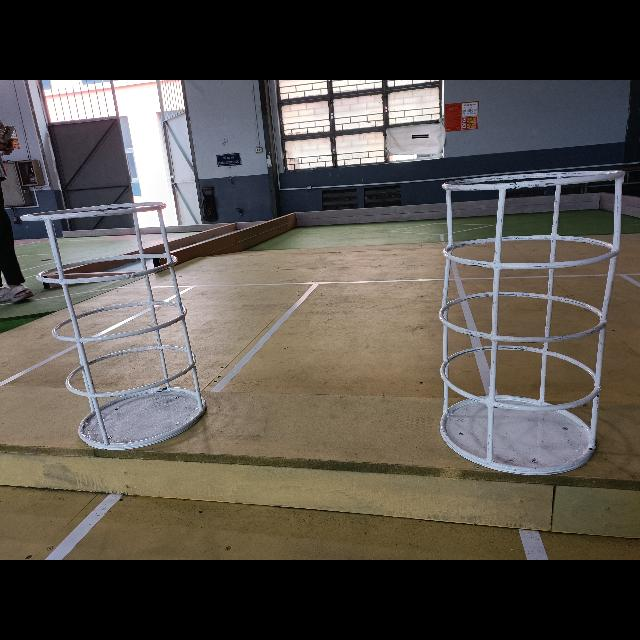S: (438, 167, 625, 477), (20, 202, 207, 452)
